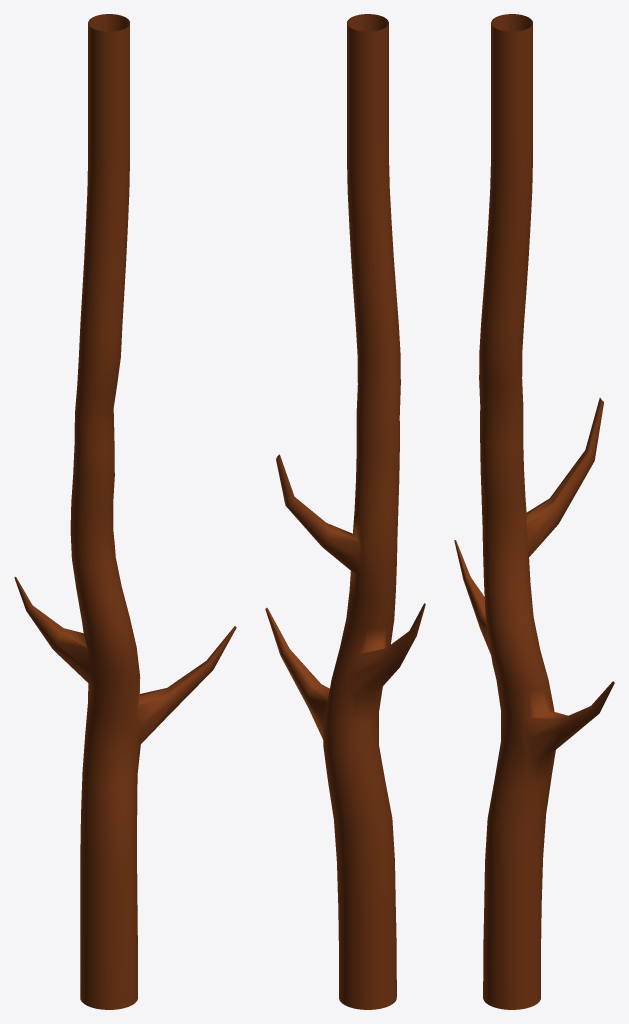
File: tree.glb
The picture shows the model from 3 angles, left to right: view 1: azimuth 30°, elevation 25°; view 2: azimuth 150°, elevation 25°; view 3: azimuth 330°, elevation 25°; orthographic projection.
Visible parts, largest first — view 1: Circle; view 2: Circle; view 3: Circle.
Boxes of the visible parts, x1,y1,x2,y2 form: Circle: (14, 14, 236, 1009); Circle: (265, 14, 425, 1009); Circle: (454, 14, 614, 1009).
Size of the model in its own units: 10.49 by 51.14 by 6.41.
